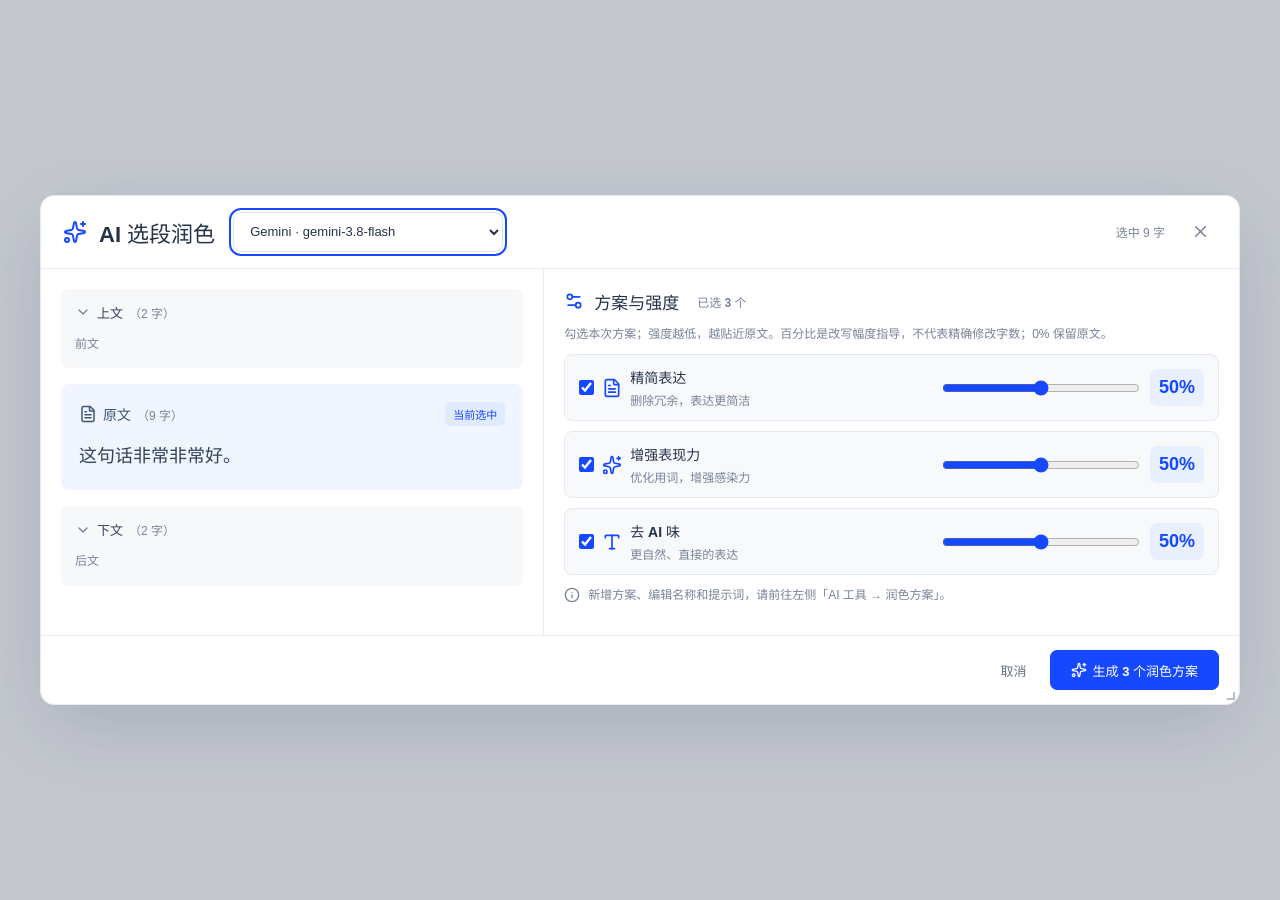
Scenario: keeps a rejected application visible in the footer without marking any result applied
Click the button "生成 3 个润色方案": (1134, 670) 1050,650 -> 1219,690
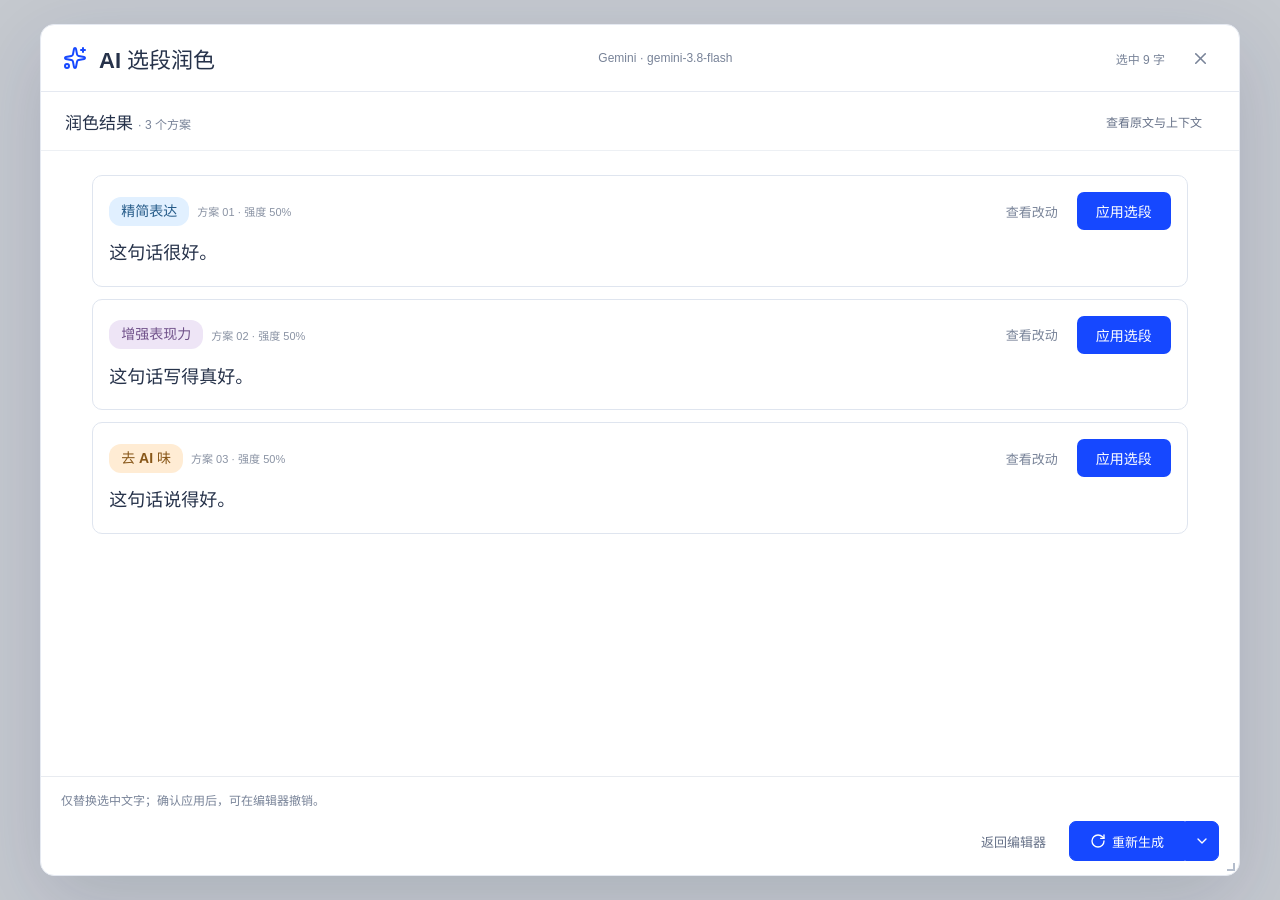
Click the button named "应用「精简表达」": (1124, 211) 1077,192 -> 1171,230
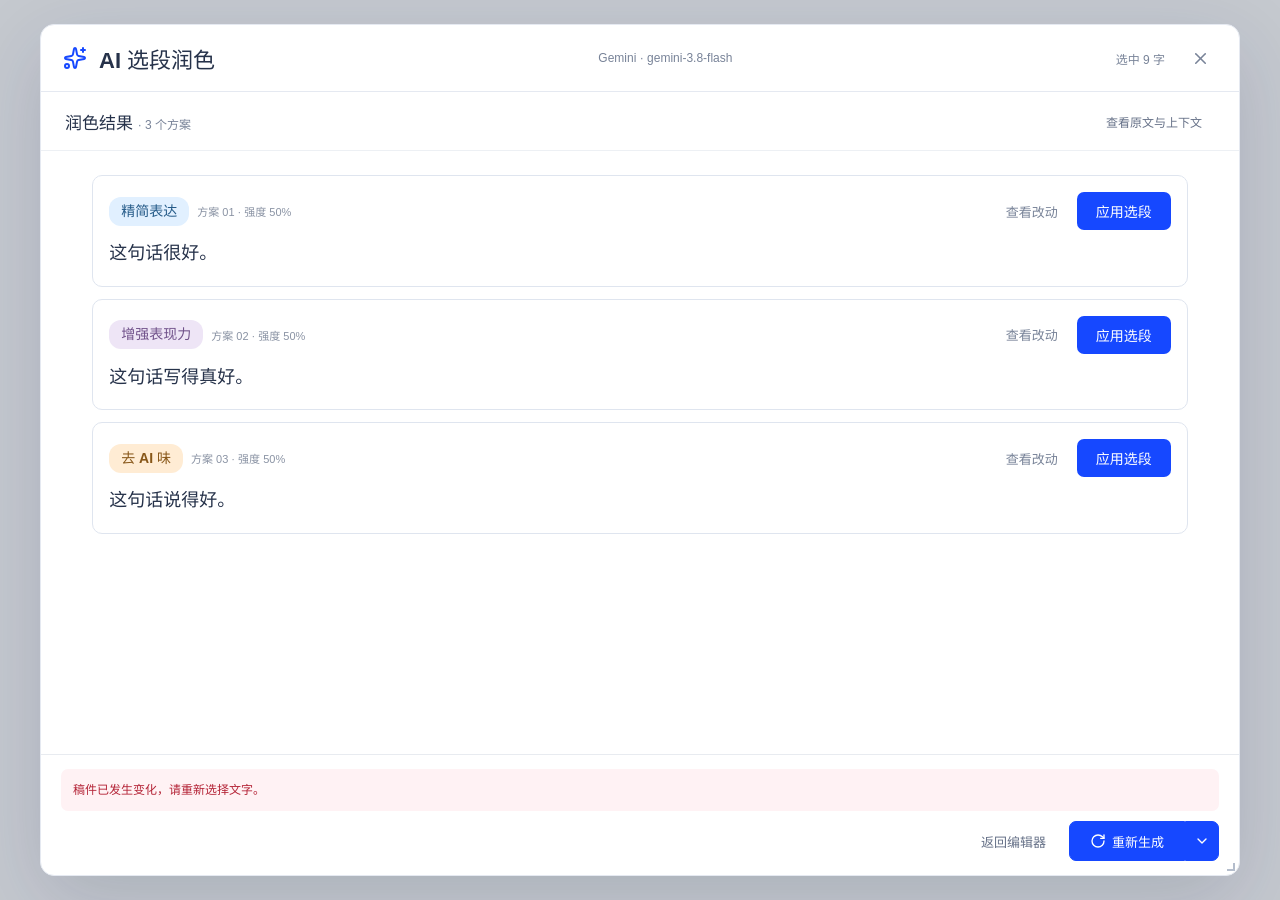
Check: the button named "应用「精简表达」" reads "应用选段", box 1077,192 -> 1171,230
Check: the button named "应用「精简表达」" is enabled, box 1077,192 -> 1171,230
Check: the message "稿件已发生变化，请重新选择文字。" is shown, box 61,769 -> 1219,811
